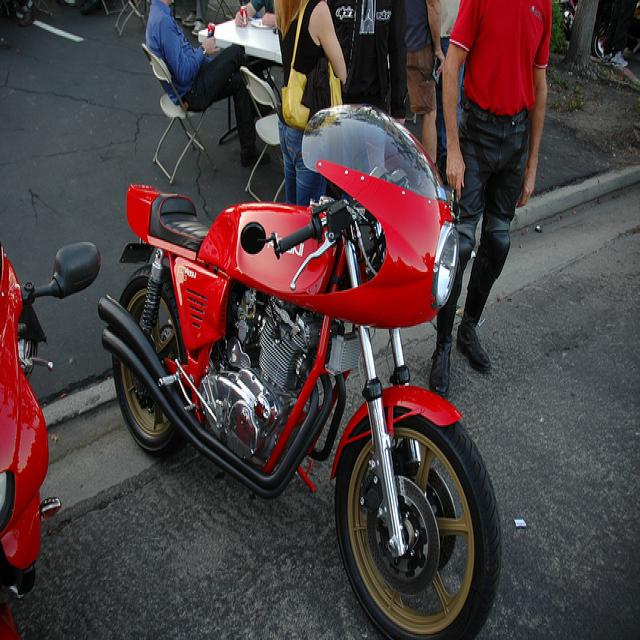motor: (100, 106, 505, 633), (0, 243, 105, 631)
